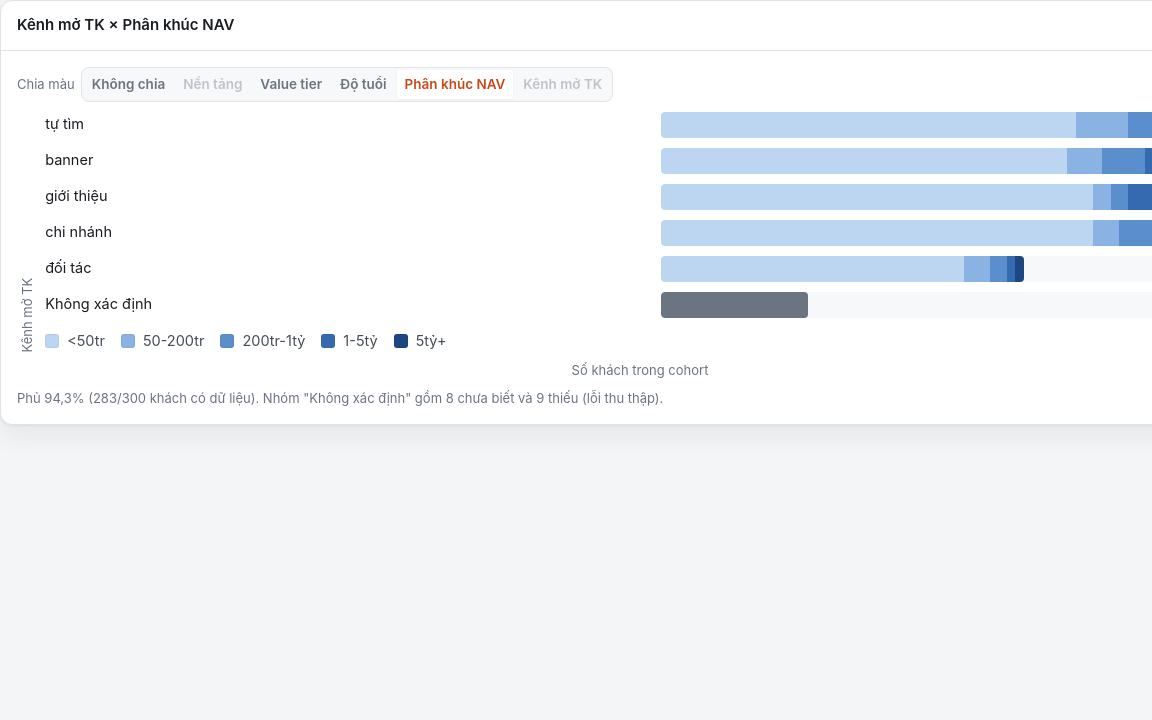
Scenario: QuantifyWidget — drill-down trục khách › hàng 'Không xác định' TÁCH LẠI hai sentinel mà chart đã gộp (bài học D0 làm cho xem được)
The image size is (1152, 720).
Click the button "Không xác định 17" at (99, 304), box x1=45 y1=292 x2=1151 y2=318
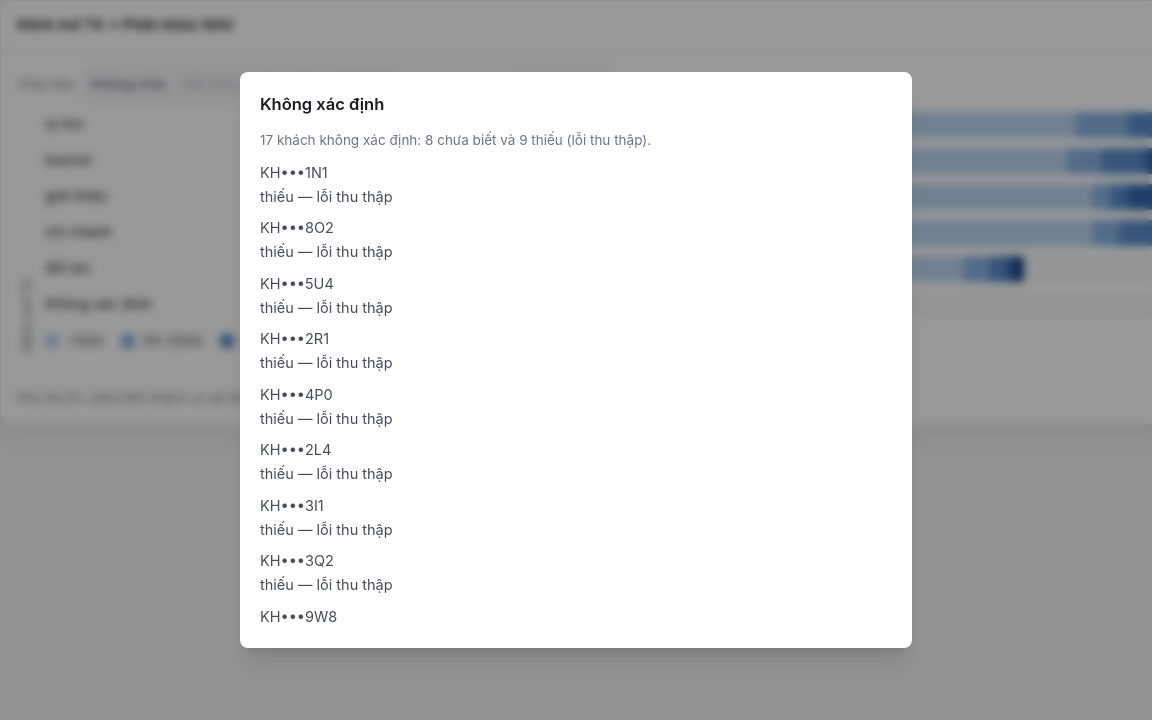
Expected: the text with test id "drill-denom" does not show "cách chữa ngược nhau", x1=260 y1=132 x2=651 y2=148
Expected: the text with test id "drill-denom" shows "8 chưa biết", x1=260 y1=132 x2=651 y2=148
Expected: the text with test id "drill-denom" shows "9 thiếu (lỗi thu thập)", x1=260 y1=132 x2=651 y2=148
